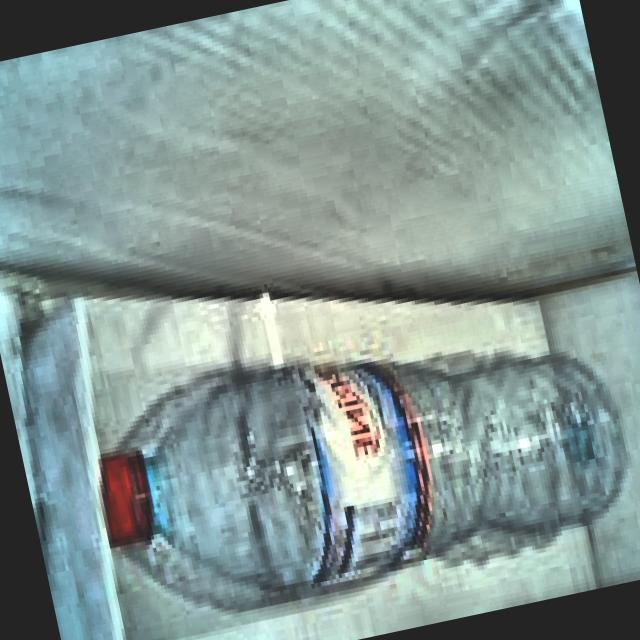plastic bottle: (99, 360, 619, 592)
